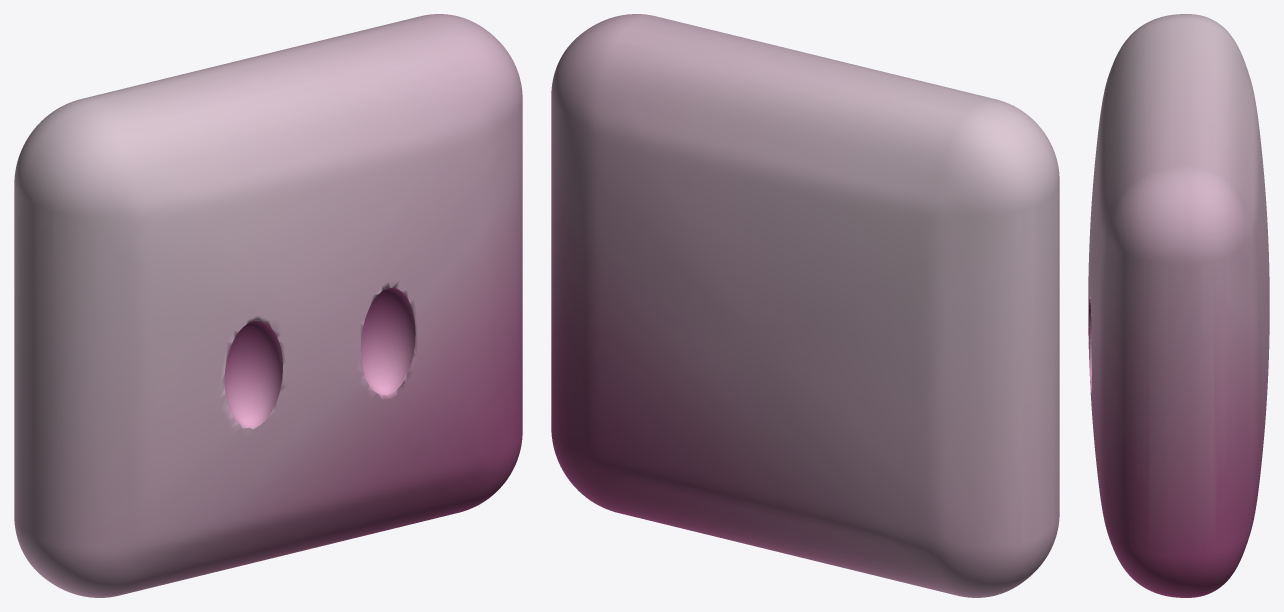
The model's file is brief-reader.glb.
The picture shows the model from 3 angles, left to right: view 1: azimuth 30°, elevation 25°; view 2: azimuth 150°, elevation 25°; view 3: azimuth 270°, elevation 25°; orthographic projection. The views are drawn at different scales.
Visible parts, largest first — view 1: Brief Reader; view 2: Brief Reader; view 3: Brief Reader.
Boxes of the visible parts, left/top/right/bottom form: Brief Reader: left=14, top=14, right=522, bottom=597; Brief Reader: left=551, top=14, right=1059, bottom=597; Brief Reader: left=1088, top=14, right=1269, bottom=597.
Bounding box in the file's own units: 2 × 1.91 × 0.7391.
